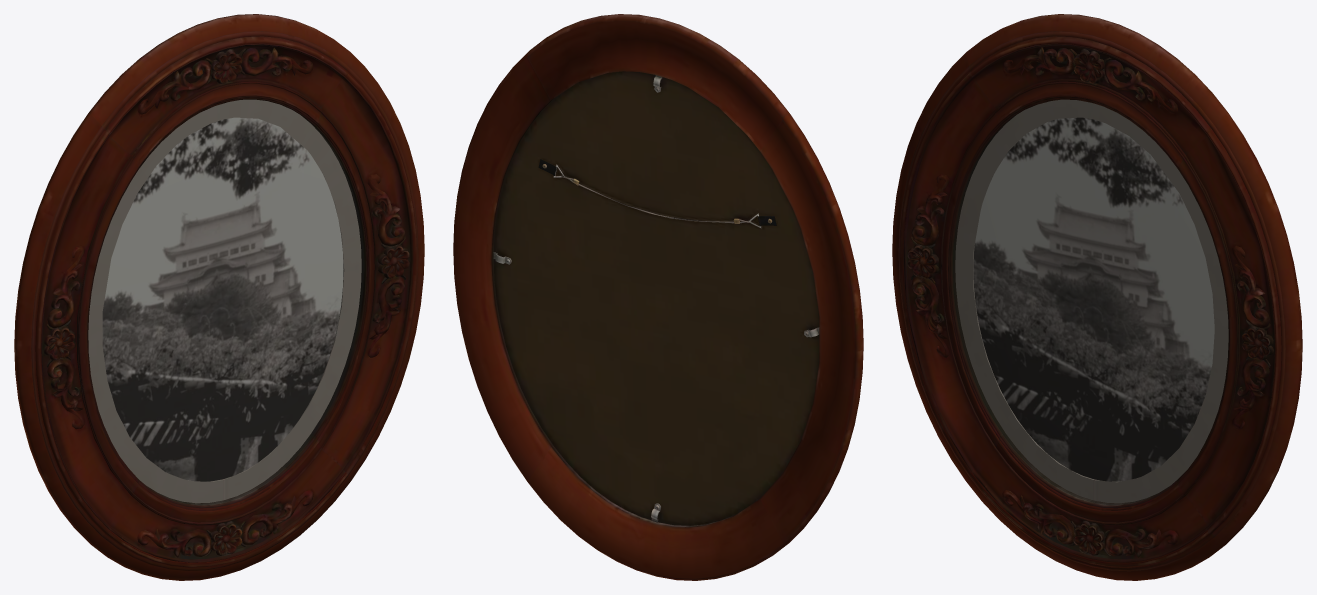
File: hanging_picture_frame_03.glb
3 views of the same model, side by side, from view 1: azimuth 30°, elevation 25°; view 2: azimuth 150°, elevation 25°; view 3: azimuth 330°, elevation 25° (orthographic).
Visible parts, largest first — view 1: hanging_picture_frame_03, hanging_picture_frame_03_glass; view 2: hanging_picture_frame_03; view 3: hanging_picture_frame_03, hanging_picture_frame_03_glass.
Part boxes in pixels (<box>): hanging_picture_frame_03: <box>14,14,424,580</box>; hanging_picture_frame_03_glass: <box>88,100,363,504</box>; hanging_picture_frame_03: <box>453,14,863,580</box>; hanging_picture_frame_03: <box>892,14,1302,580</box>; hanging_picture_frame_03_glass: <box>953,100,1228,504</box>.
Size of the model in its own units: 0.3847 by 0.502 by 0.0318.
Materials: 3 (2 with a texture image).
